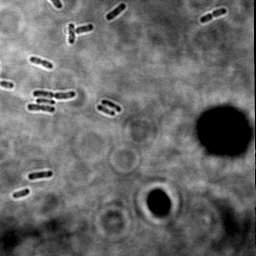Dividing: (30, 88, 77, 101), (199, 7, 228, 25), (28, 55, 55, 70), (25, 103, 56, 114)
Rod: (105, 2, 127, 23), (100, 97, 123, 114), (95, 103, 117, 117), (26, 169, 54, 180), (75, 22, 95, 35), (11, 187, 31, 199), (67, 21, 76, 45), (33, 97, 57, 106)
